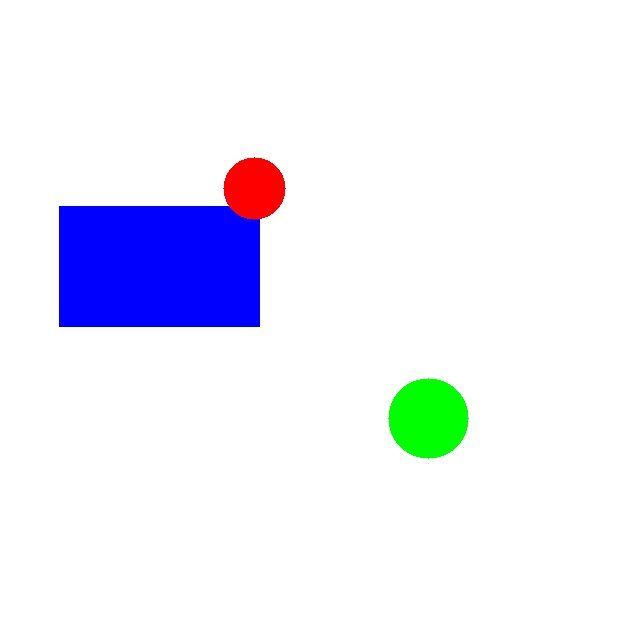cartao: (59, 206, 259, 326)
rosca_externa: (388, 378, 468, 458)
rosca_interna: (223, 157, 285, 219)
